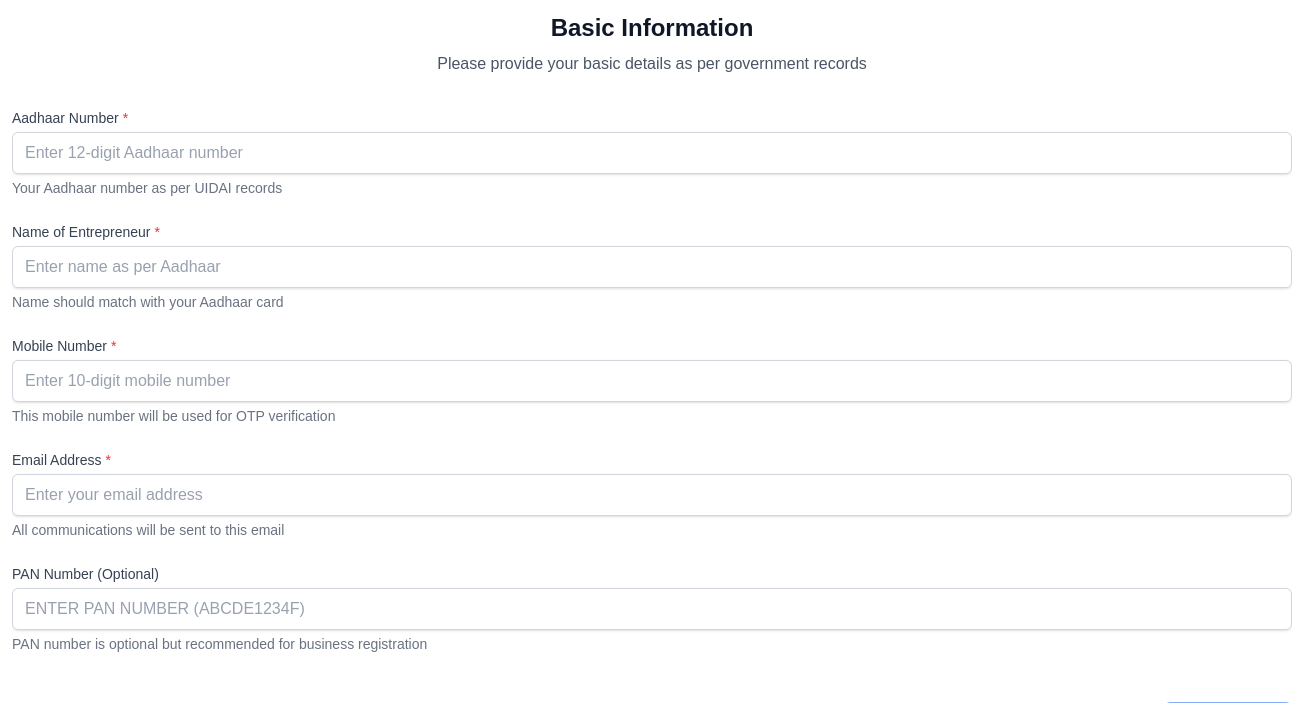
Step1Form › should validate Aadhaar number format
Type "123" into the field labelled "Aadhaar Number*". click: coordinates (652, 153)
box: [12,132,1292,174]
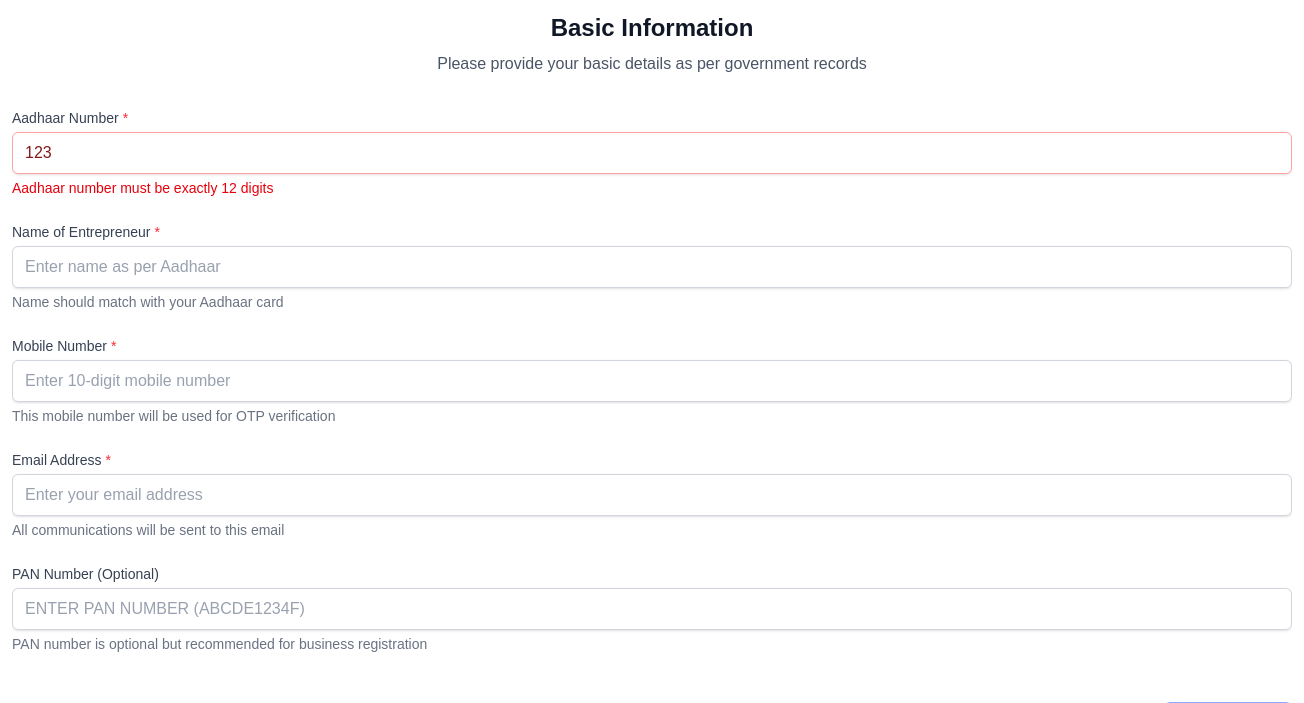
Expected: the text "Aadhaar number must be exactly 12 digits" is shown, [12,180,274,196]
